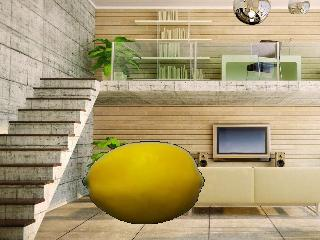lemon: (79, 134, 209, 227)
